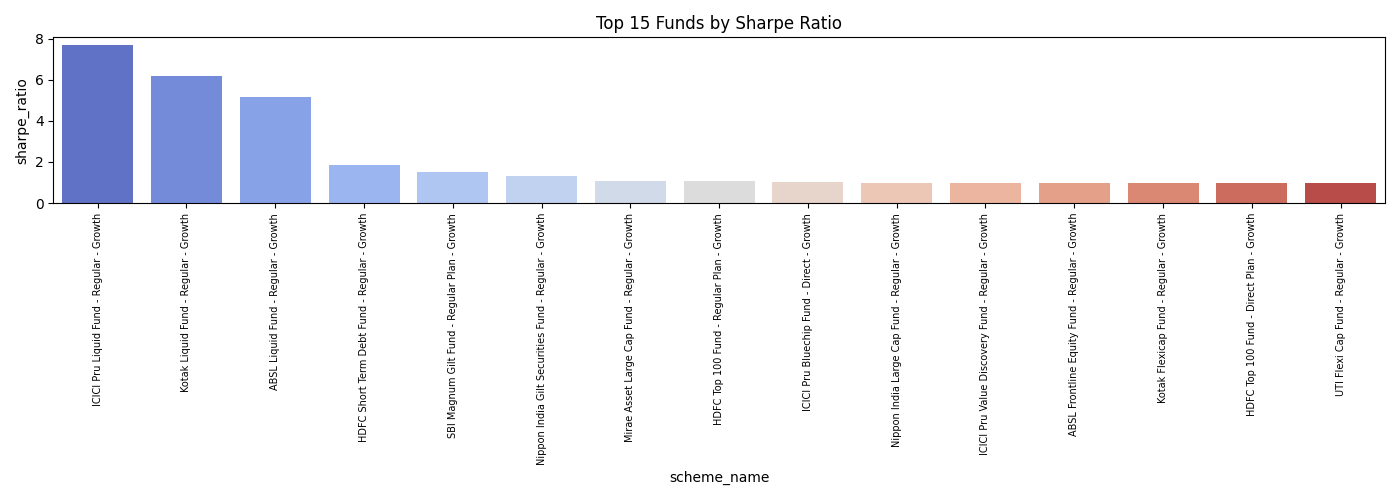

What the dashboard file says about the page in this screenshot:
{"tool":"powerbi","page":{"name":"Page 2","canvas":[1280,720],"ordinal":1},"visuals":[{"type":"hundredPercentStackedBarChart","fields":{"Category":["fund_scorecard.scheme_name"],"Y":["Sum(fund_scorecard.sharpe_ratio)"]},"box":[0,0,657.1,337.1],"z":0}]}

Visuals, with their boxes on the page's 1280x720 design canvas (x1, y1, x2, y2). These are canvas units, not pixel positions in the 1400x500 screenshot, which may show the page scaled, cropped or inside an application window:
hundredPercentStackedBarChart - fund_scorecard.scheme_name x Sum(fund_scorecard.sharpe_ratio): detection(0, 0, 657, 337)
